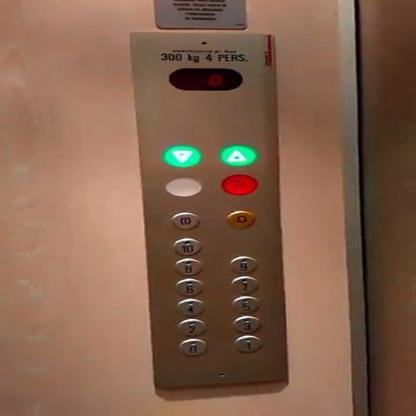0: (174, 337, 210, 357)
1: (227, 334, 264, 352)
10: (167, 236, 204, 254)
2: (174, 317, 206, 337)
3: (229, 315, 263, 334)
4: (172, 299, 208, 317)
5: (227, 295, 264, 315)
6: (170, 278, 204, 297)
7: (229, 276, 260, 294)
8: (170, 258, 204, 276)
9: (227, 254, 259, 274)
alarm: (219, 209, 260, 230)
blur: (218, 174, 258, 196)
down: (161, 145, 201, 168)
empty: (164, 177, 203, 197)
led: (166, 66, 246, 92)
open: (166, 211, 203, 230)
up: (218, 144, 258, 166)
